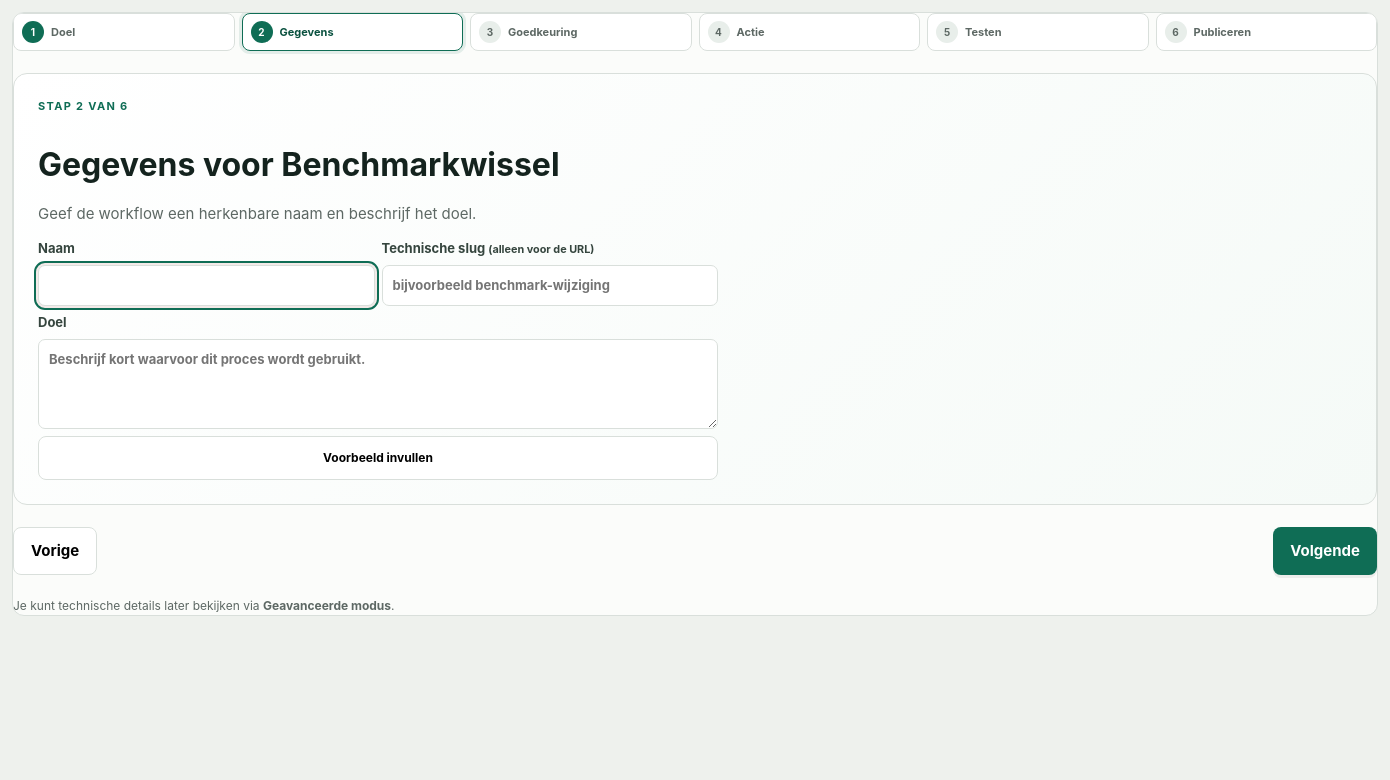
Test: workflow wizard › fills safe example data and keeps publishing separate from draft creation
The image size is (1390, 780).
Click the button "Voorbeeld invullen": coordinates (378, 458) x1=38 y1=436 x2=718 y2=480
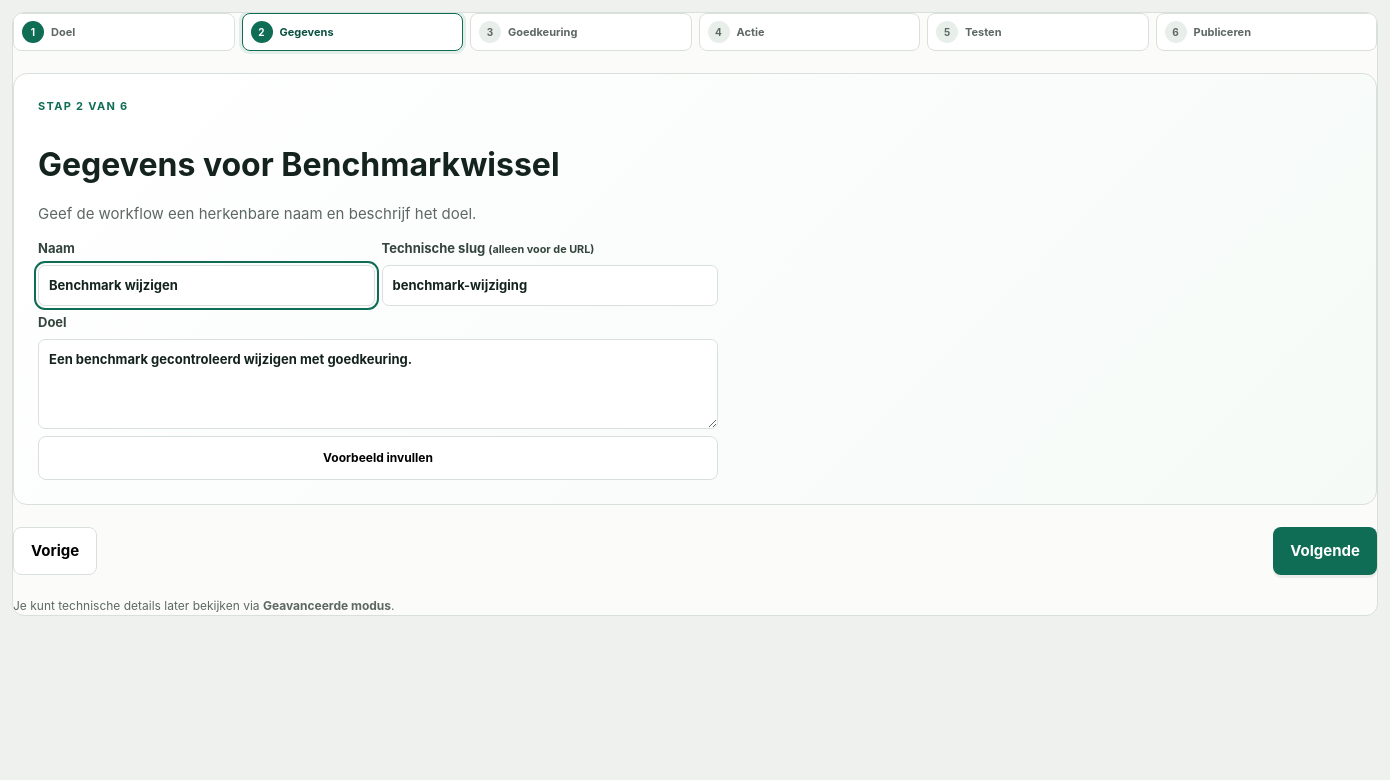
Expected: the field labelled "Naam" holds "Benchmark wijzigen", x1=38 y1=264 x2=374 y2=306
Expected: the field labelled "Technische slug (alleen voor de URL)" holds "benchmark-wijziging", x1=382 y1=264 x2=718 y2=306
Click the button "Volgende": coordinates (1325, 551) x1=1273 y1=526 x2=1377 y2=575
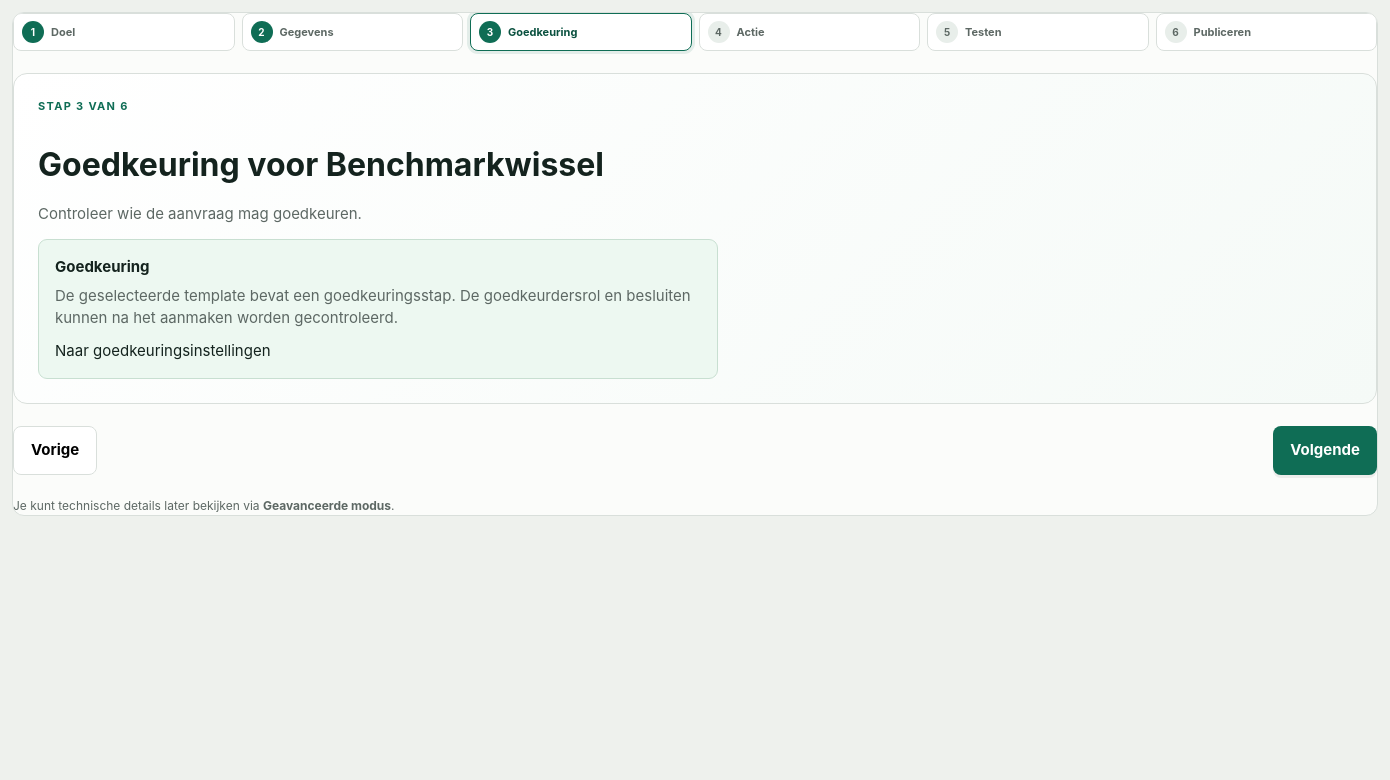
Click the button "Volgende": coordinates (1325, 450) x1=1273 y1=426 x2=1377 y2=474
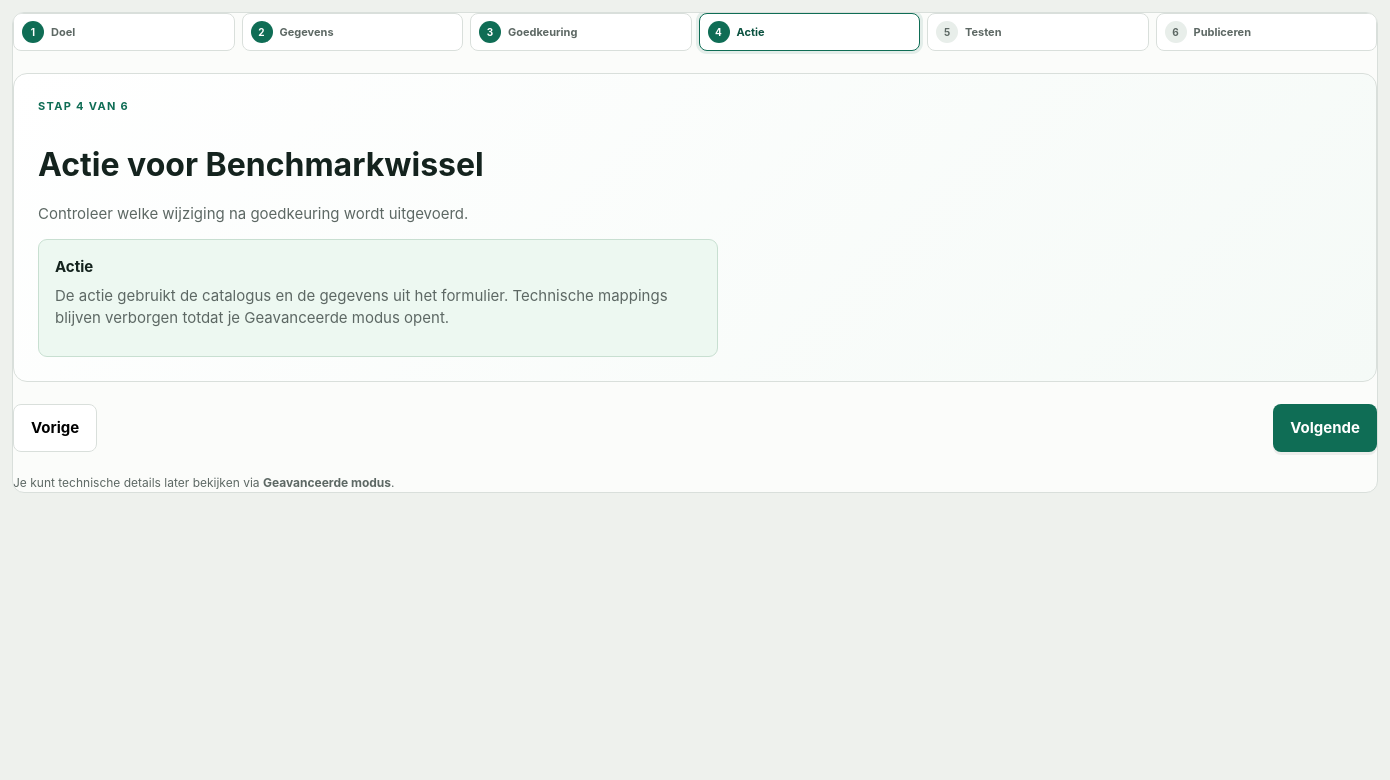
Click the button "Volgende": coordinates (1325, 428) x1=1273 y1=404 x2=1377 y2=452
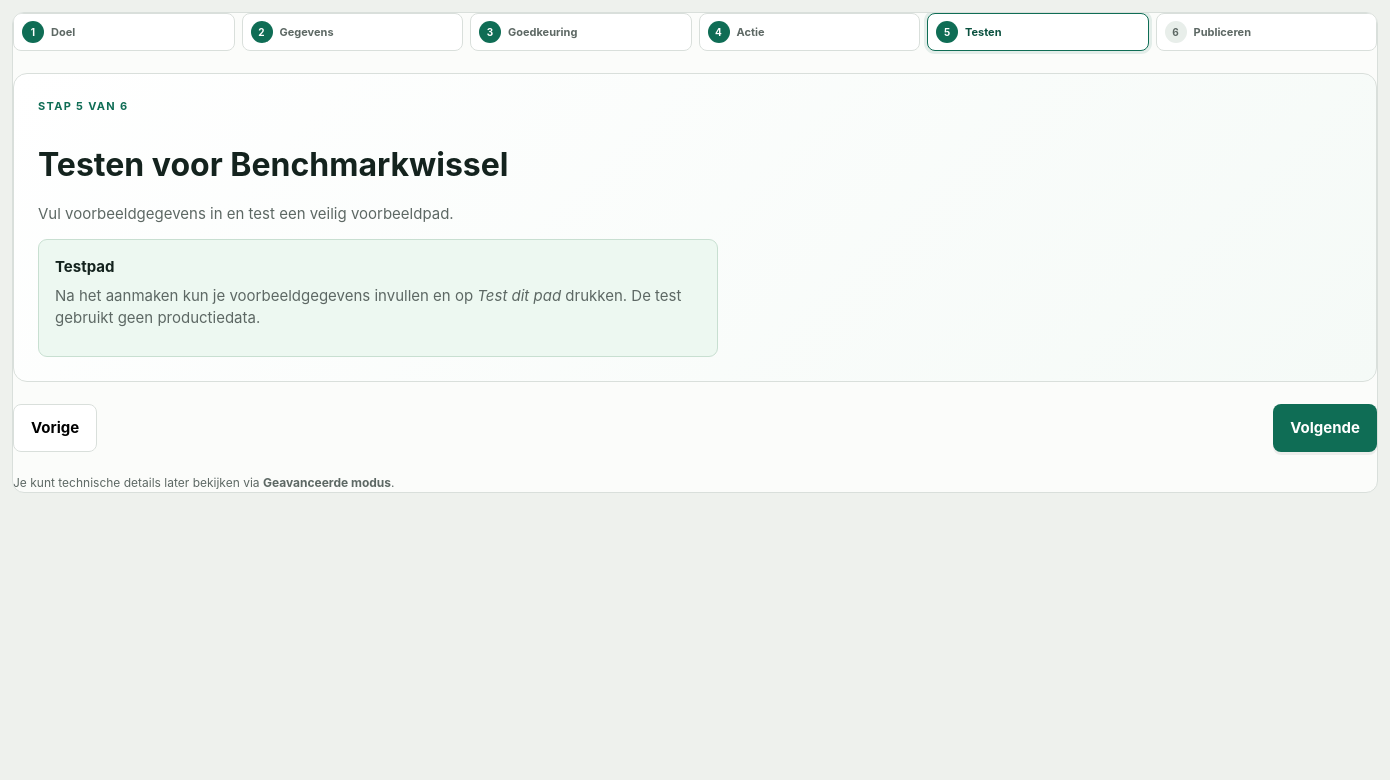
Click the button "Volgende": coordinates (1325, 428) x1=1273 y1=404 x2=1377 y2=452
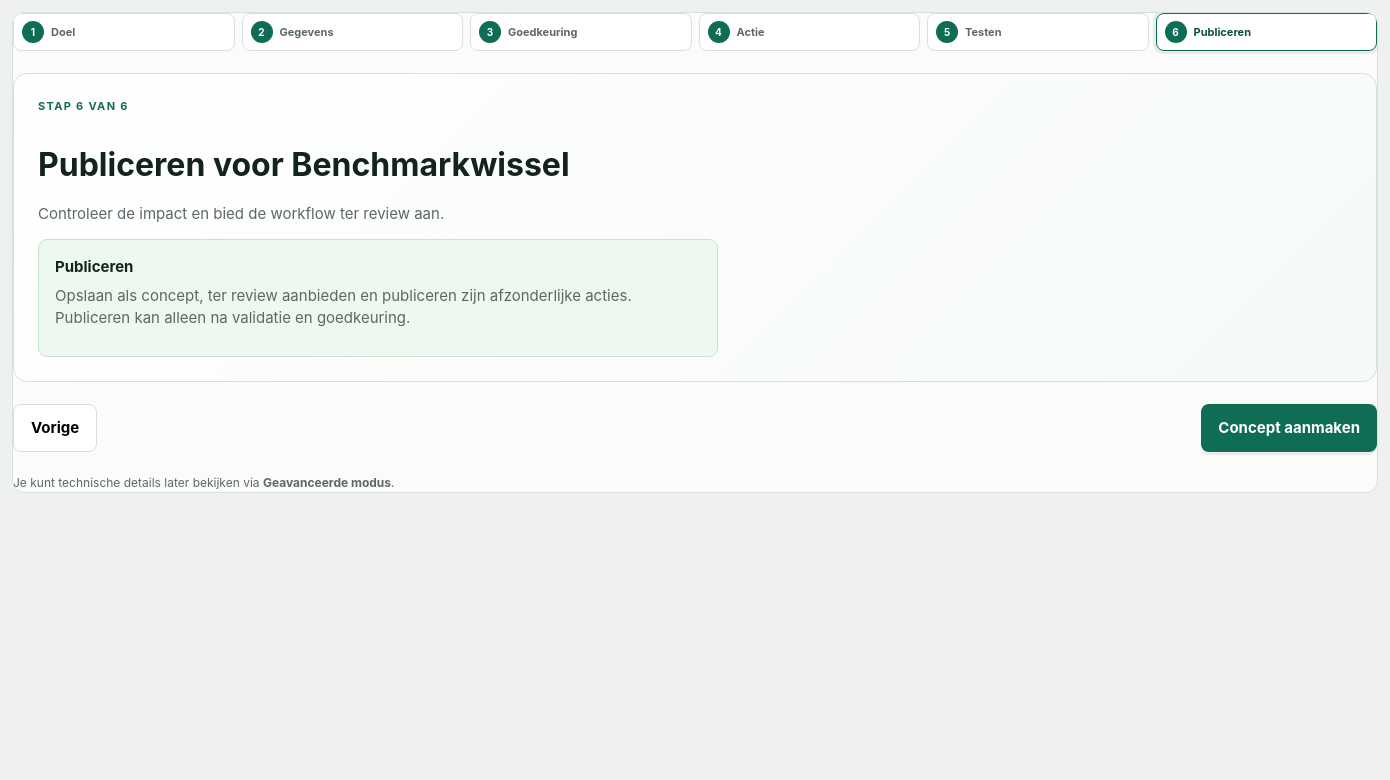
Expected: the button "Concept aanmaken" is shown, x1=1201 y1=404 x2=1377 y2=452
